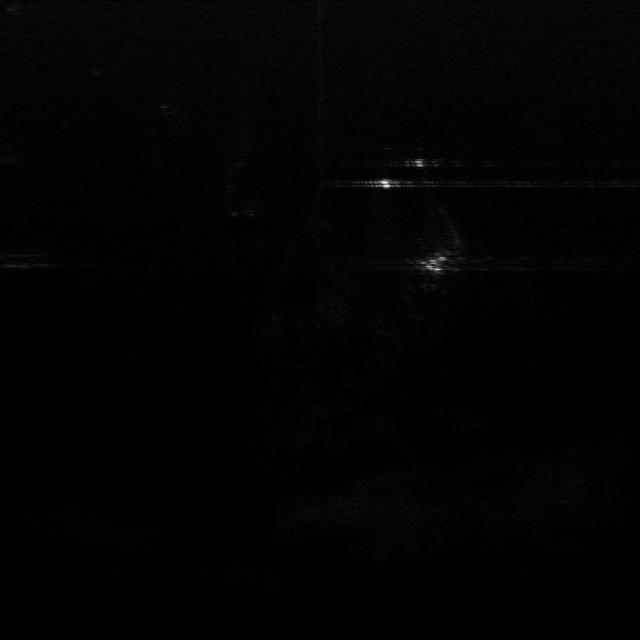rov: (417, 250, 451, 274)
